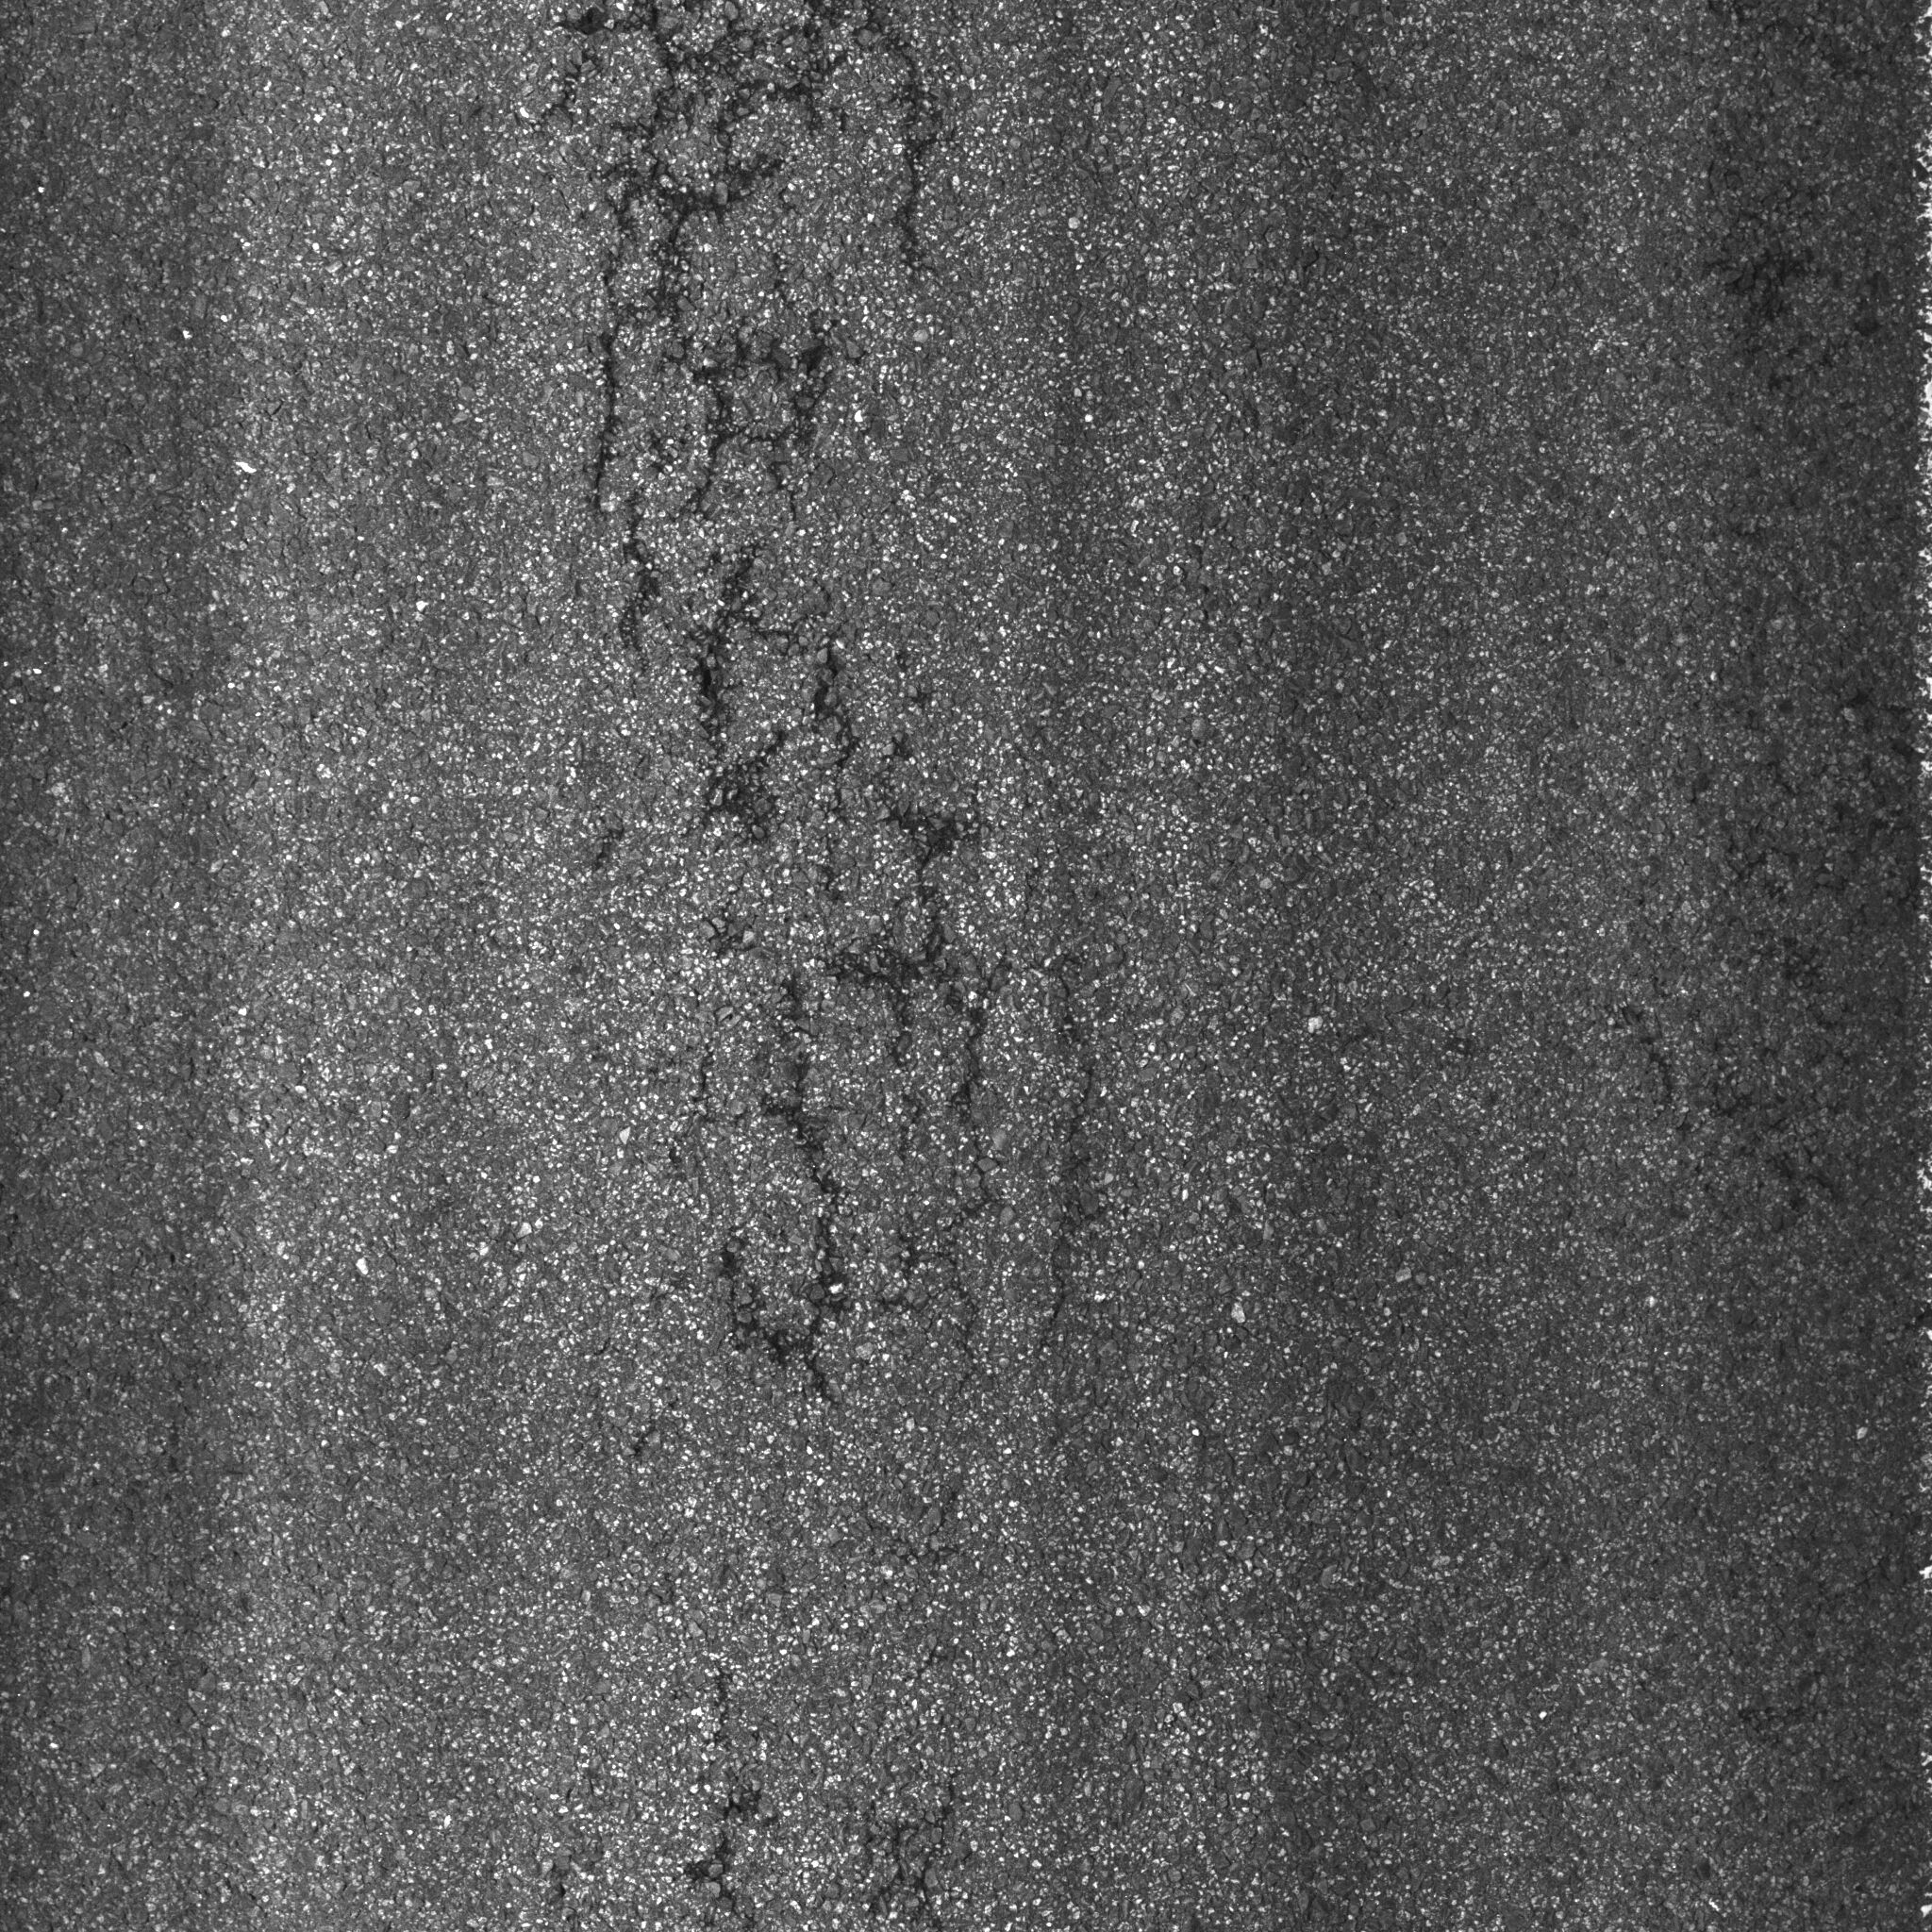alligator: (437, 7, 1187, 1435)
